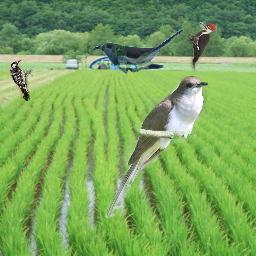Cuckoo: (104, 76, 208, 218), (93, 28, 186, 74)
Woodpecker: (186, 22, 217, 72), (8, 58, 36, 101)
